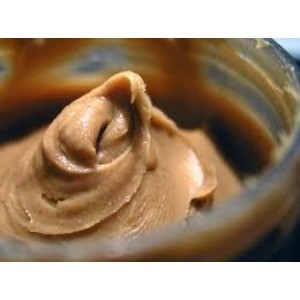peanut butter_brain food: (23, 82, 234, 223)
